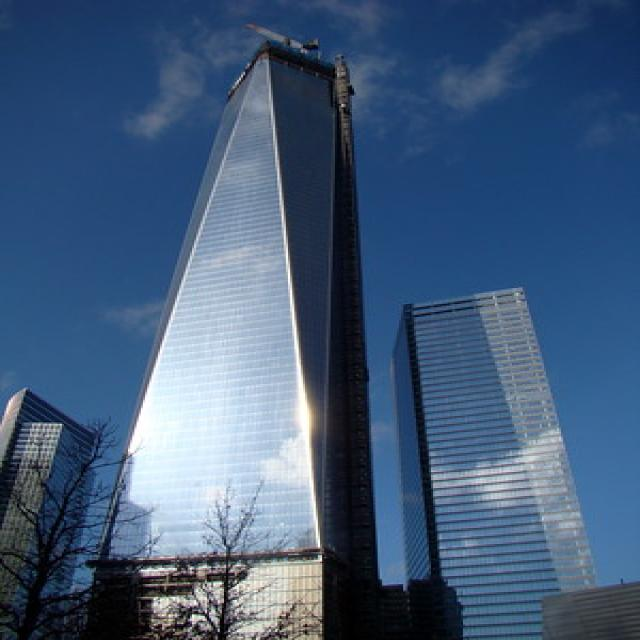building: (78, 27, 387, 638), (383, 279, 609, 639)
